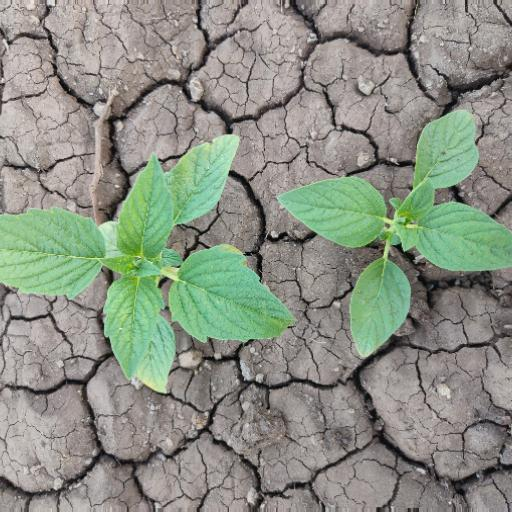crop: (1, 92, 308, 407), (268, 100, 512, 367)
